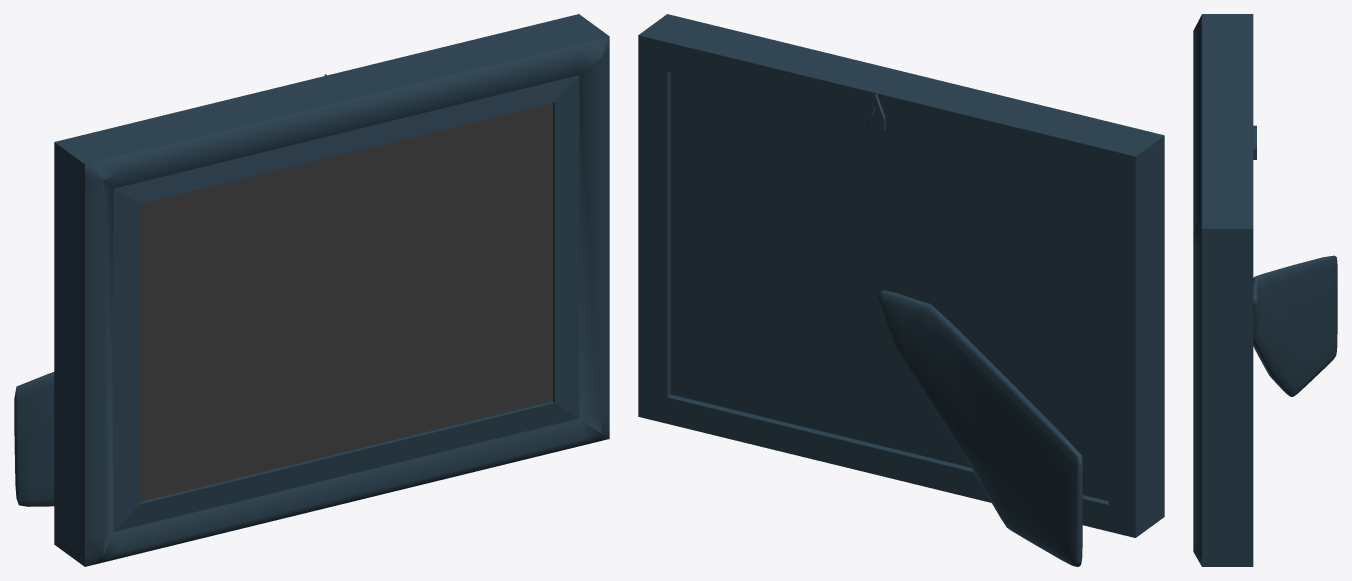
The model's file is photoframe_blue.glb.
3 renders of one model, left to right at view 1: azimuth 30°, elevation 25°; view 2: azimuth 150°, elevation 25°; view 3: azimuth 270°, elevation 25°, orthographic. The views are drawn at different scales.
Parts seen in each view (by area): view 1: family_photo1; view 2: family_photo1; view 3: family_photo1.
Part boxes in pixels (<box>): family_photo1: <box>14,14,609,566</box>; family_photo1: <box>638,14,1164,566</box>; family_photo1: <box>1193,14,1337,566</box>.
Size of the model in its own units: 0.3053 by 0.2244 by 0.0868.
